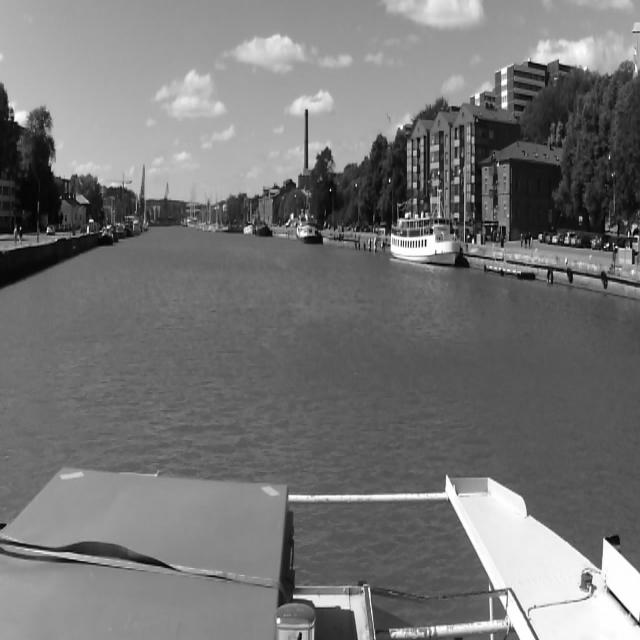ship: (390, 214, 460, 265), (296, 212, 322, 244), (251, 198, 271, 236), (242, 198, 254, 236), (224, 218, 243, 234), (99, 225, 113, 245), (131, 216, 141, 235), (116, 226, 126, 238)
